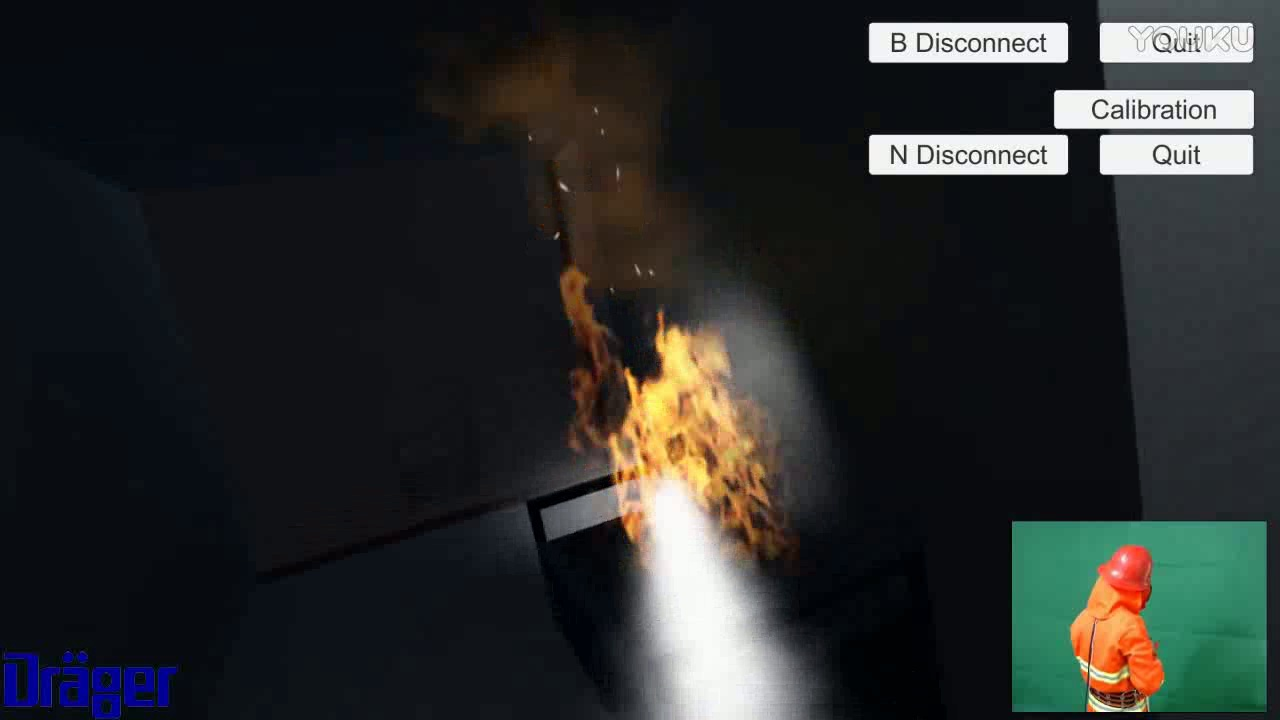fire: (553, 264, 817, 601)
